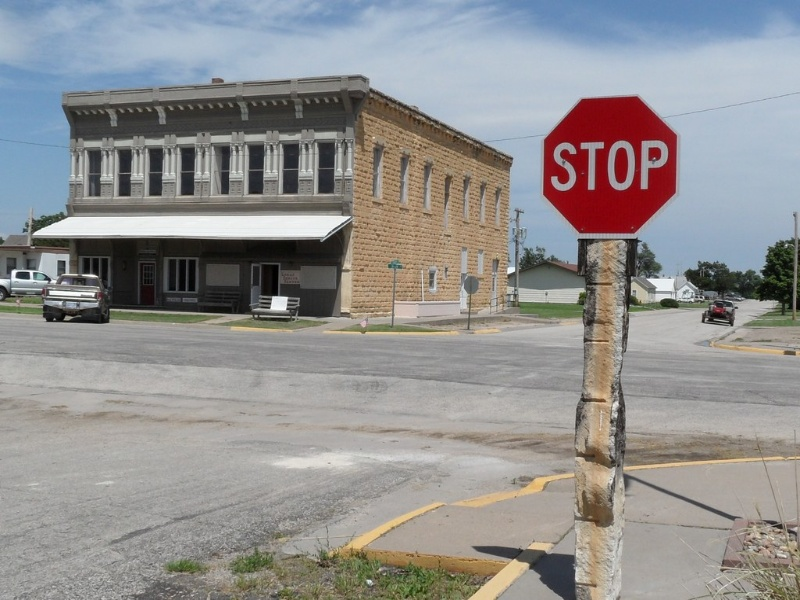stop: (536, 89, 683, 241)
